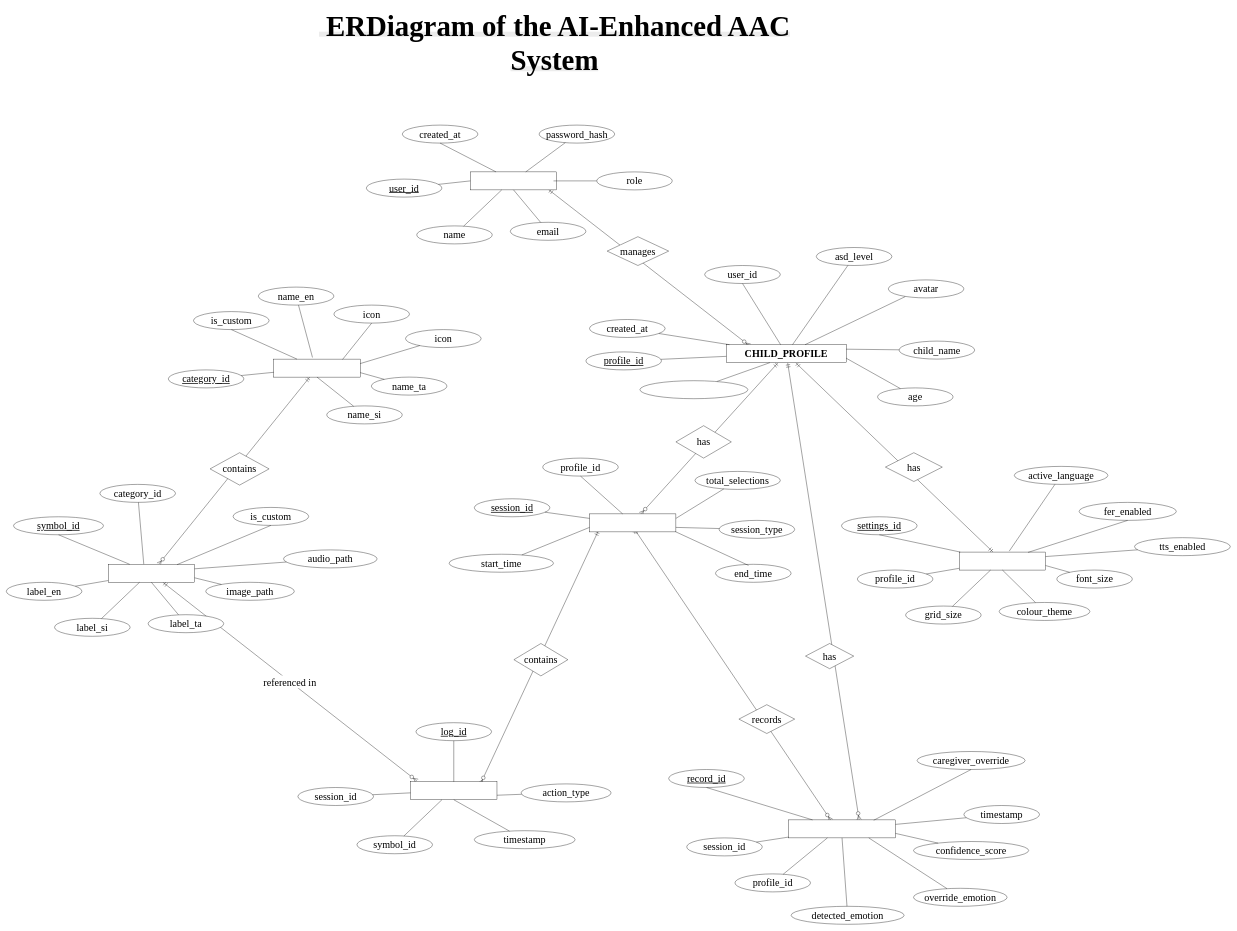
This 1237x931 diagram has some shape labels left out. Here are the shapes that lost their labels. From the top down, the centre of each, then its label:
[513,181]: USER
[316,368]: CATEGORY
[694,389]: preferred_language
[632,523]: SESSION
[151,573]: SYMBOL
[1002,561]: SETTINGS
[453,790]: USAGE_LOG
[842,829]: EMOTION_RECORD
